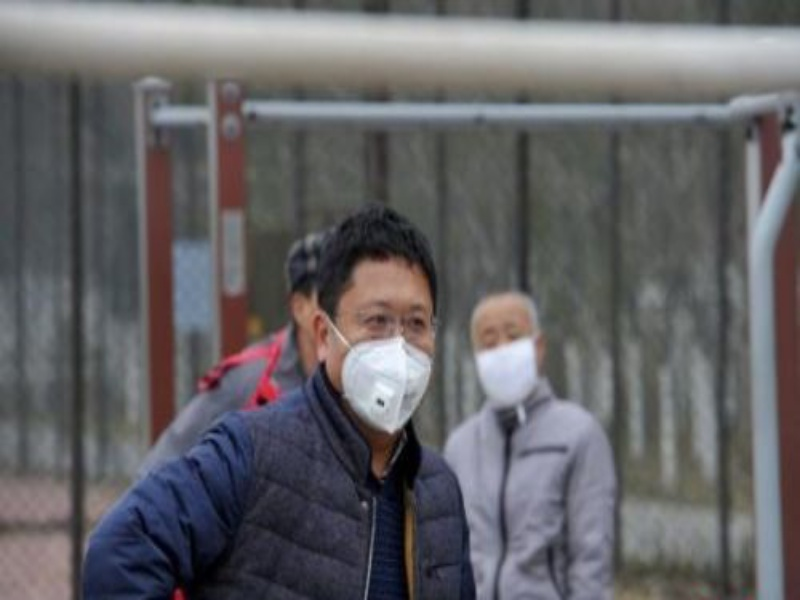mask: (306, 203, 453, 435), (465, 280, 558, 411)
